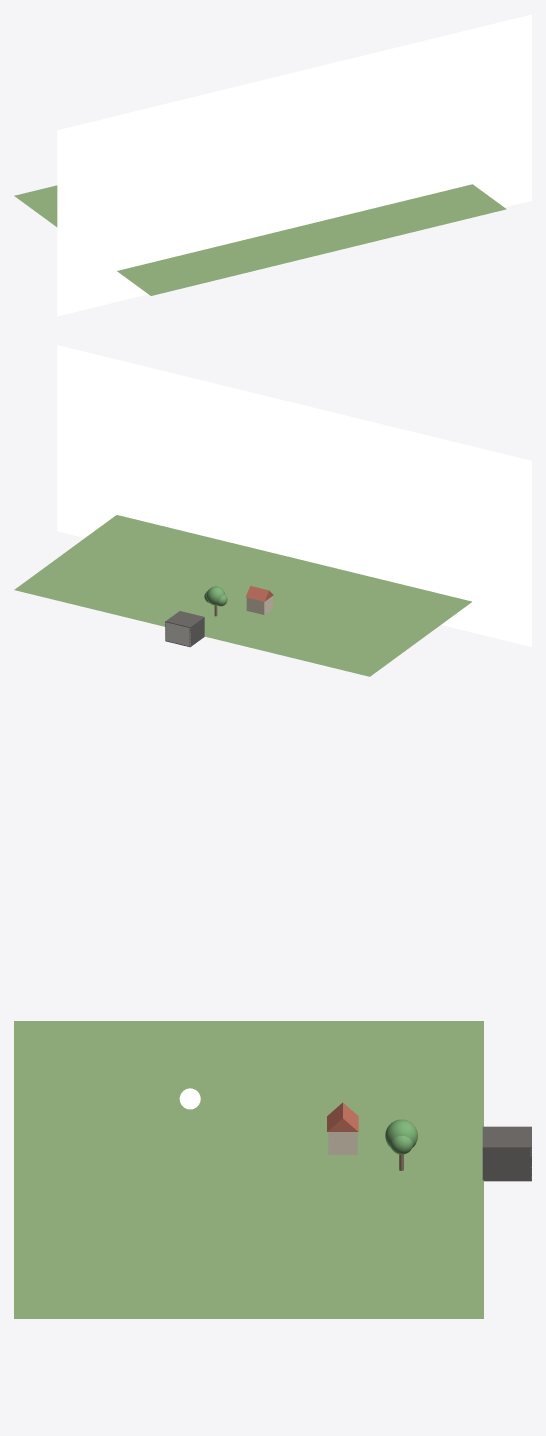
The picture shows the model from 3 angles, top to bottom: view 1: azimuth 30°, elevation 25°; view 2: azimuth 150°, elevation 25°; view 3: azimuth 270°, elevation 25°; orthographic projection. The views are drawn at different scales.
Parts seen in each view (by area): view 1: sky_card, ground_out; view 2: sky_card, ground_out, wall_back, room_roof; view 3: ground_out, wall_side_r, room_roof.
Part boxes in pixels (bbox=[...]): sky_card: bbox=[57, 14, 531, 316]; ground_out: bbox=[14, 184, 506, 295]; sky_card: bbox=[57, 345, 531, 646]; ground_out: bbox=[14, 515, 471, 676]; wall_back: bbox=[165, 622, 190, 646]; room_roof: bbox=[165, 611, 204, 627]; ground_out: bbox=[14, 1021, 483, 1318]; wall_side_r: bbox=[482, 1148, 531, 1180]; room_roof: bbox=[482, 1126, 531, 1148].
Bounding box in the file's own units: 80 × 30 × 44.1.
